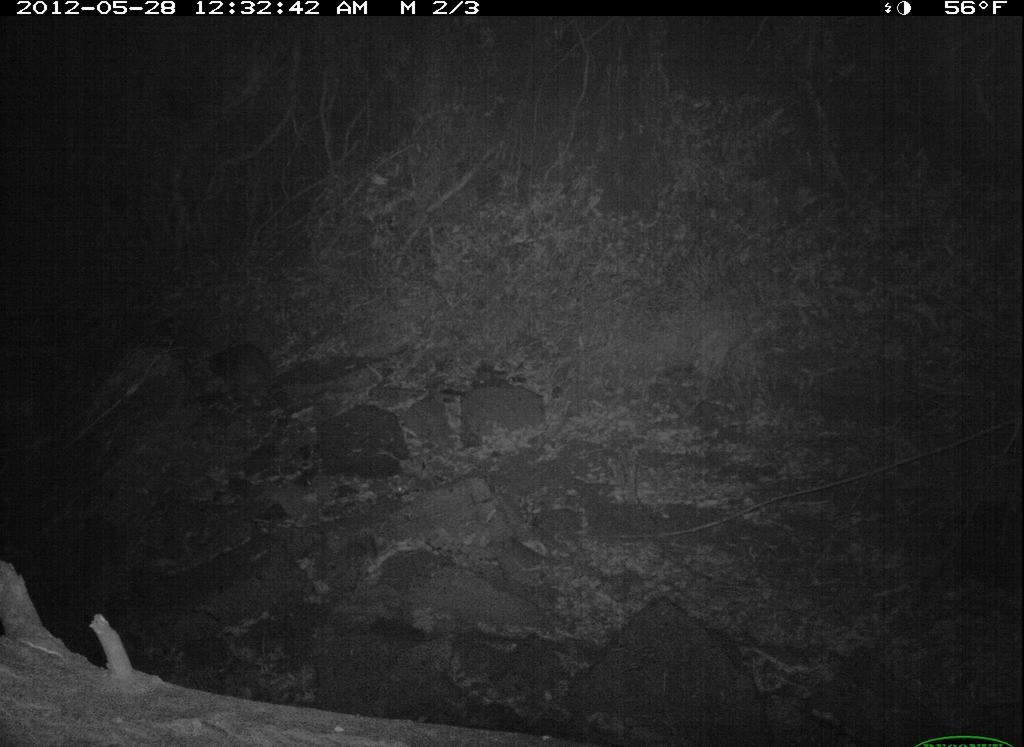raccoon: (200, 299, 305, 449)
